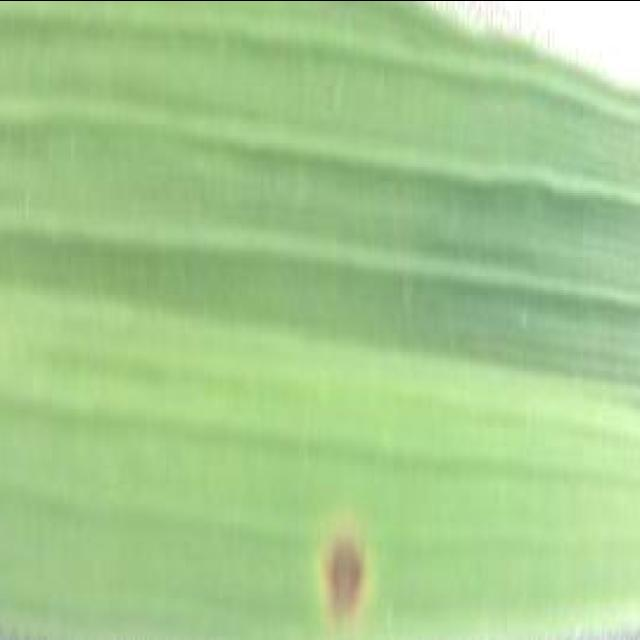Brown_Spot: (292, 502, 406, 640)
